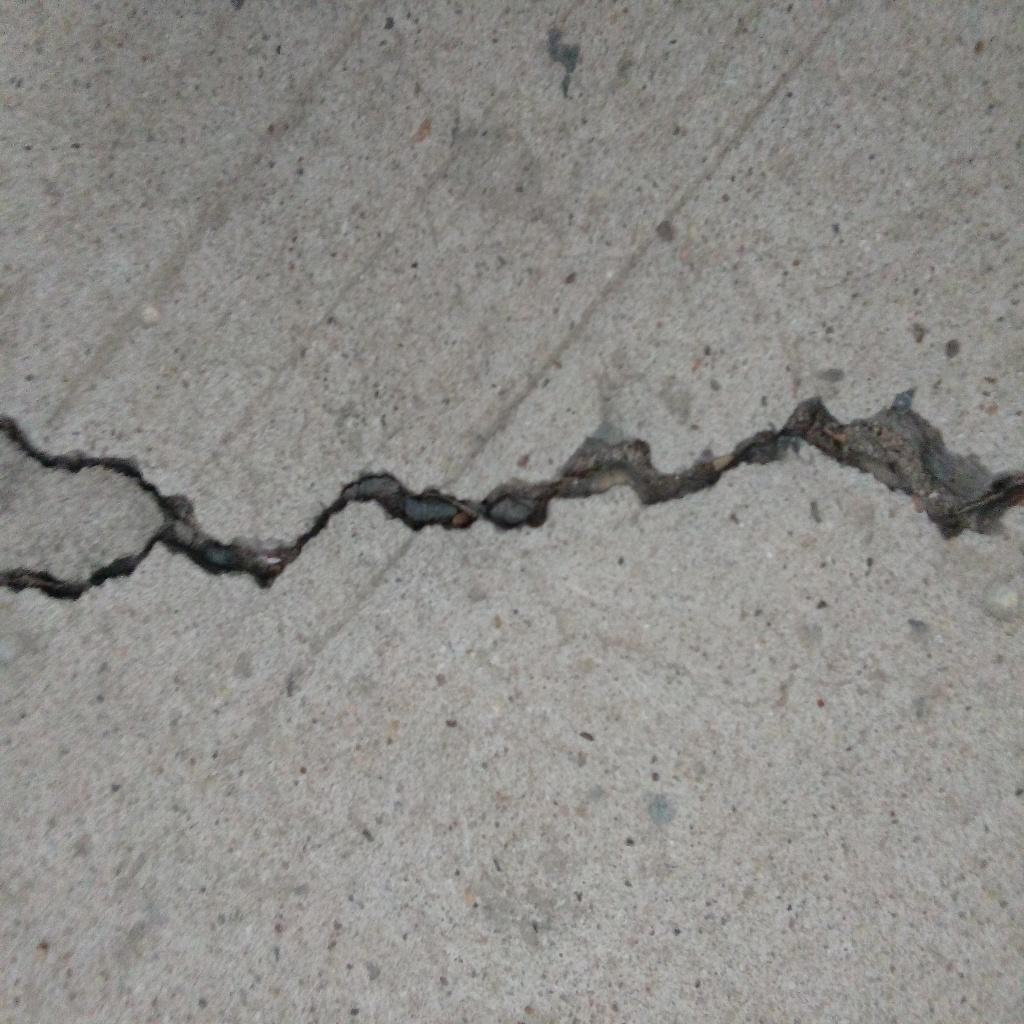Crack: (1, 384, 1024, 603)
